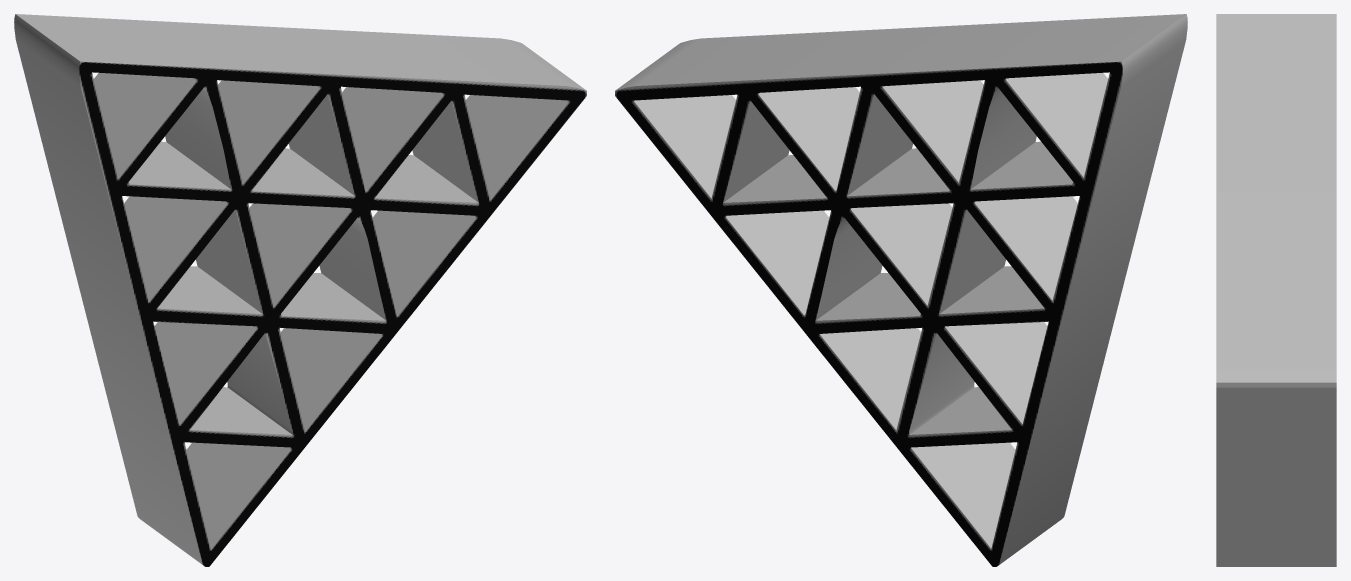
File: Three.glb
The picture shows the model from 3 angles, left to right: view 1: azimuth 30°, elevation 25°; view 2: azimuth 150°, elevation 25°; view 3: azimuth 270°, elevation 25°; orthographic projection. The views are drawn at different scales.
Parts seen in each view (by area): view 1: Three.js_Icon.svg; view 2: Three.js_Icon.svg; view 3: Three.js_Icon.svg.
Boxes of the visible parts, x1,y1,x2,y2 form: Three.js_Icon.svg: (14,14,586,566); Three.js_Icon.svg: (615,14,1187,566); Three.js_Icon.svg: (1216,14,1336,566).
Bounding box in the file's own units: 0.3899 × 0.394 × 0.0866.
Materials: 3 (3 with a texture image).
